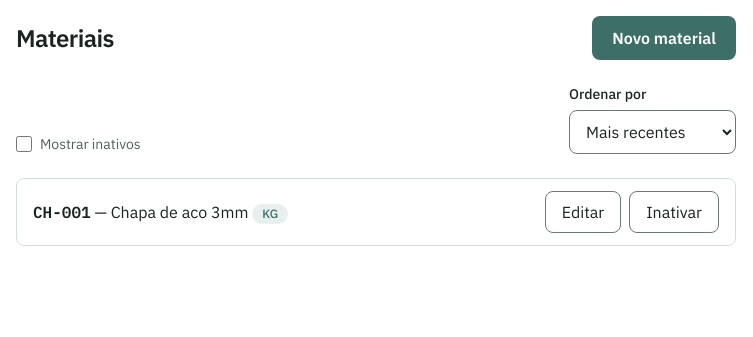
Test: MateriaisPage › explica o 403 em vez do texto genérico
This screenshot has width=753, height=337.
Click the button "Inativar": (674, 212) x1=629 y1=191 x2=719 y2=233
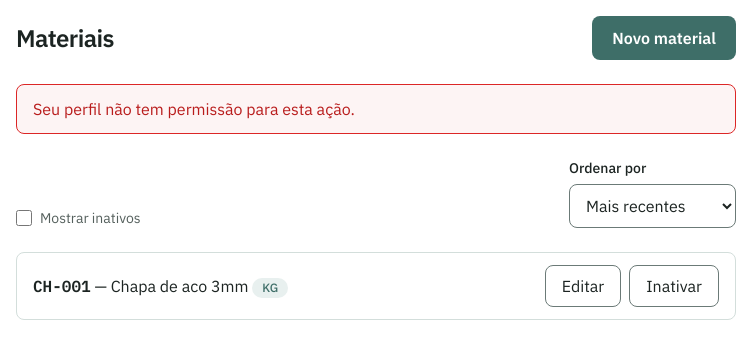
Result: the text "Seu perfil não tem permissão para esta ação." is shown at x1=16 y1=84 x2=736 y2=134
